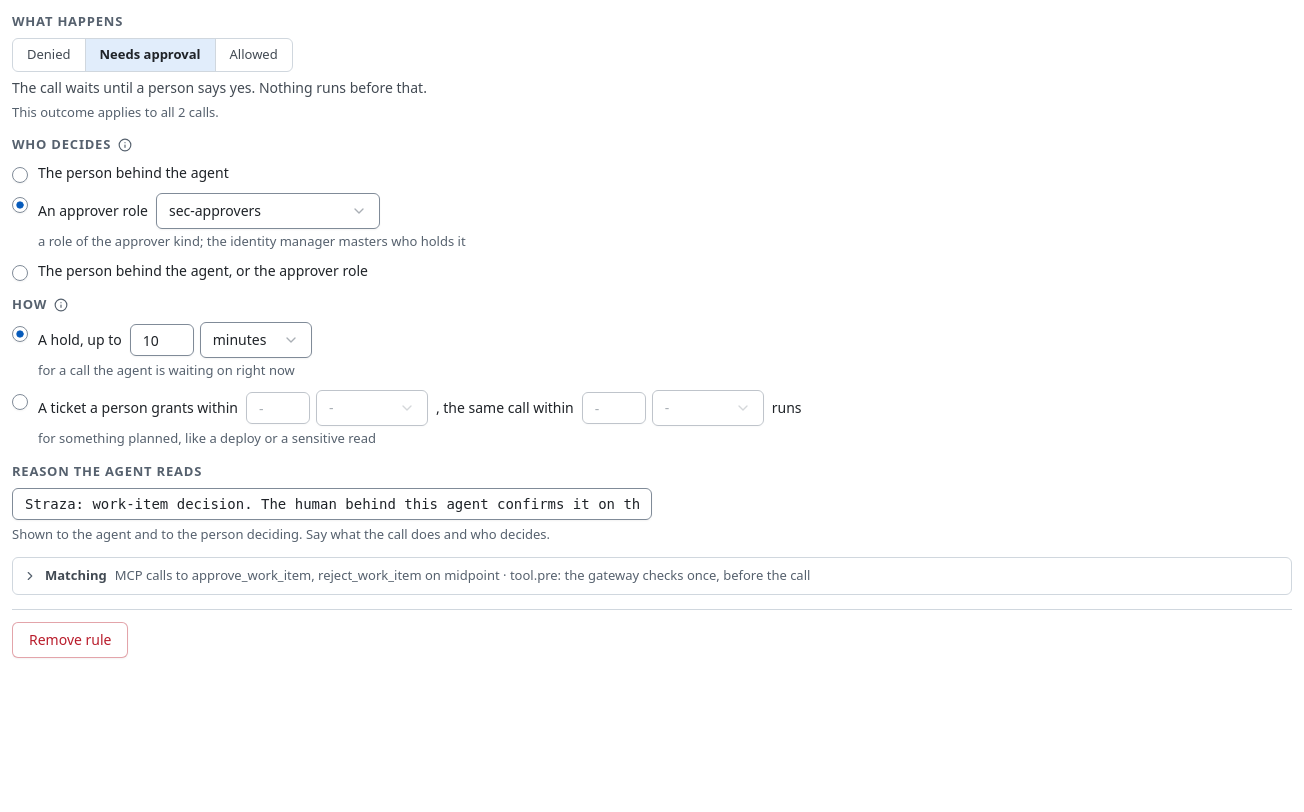
it: changing what a rule does › warns when a team is paged for a window too short to answer
The width and height of the screenshot is (1304, 812).
Click the dropdown labelled "minutes".
click(256, 340)  # box x1=200 y1=322 x2=312 y2=358
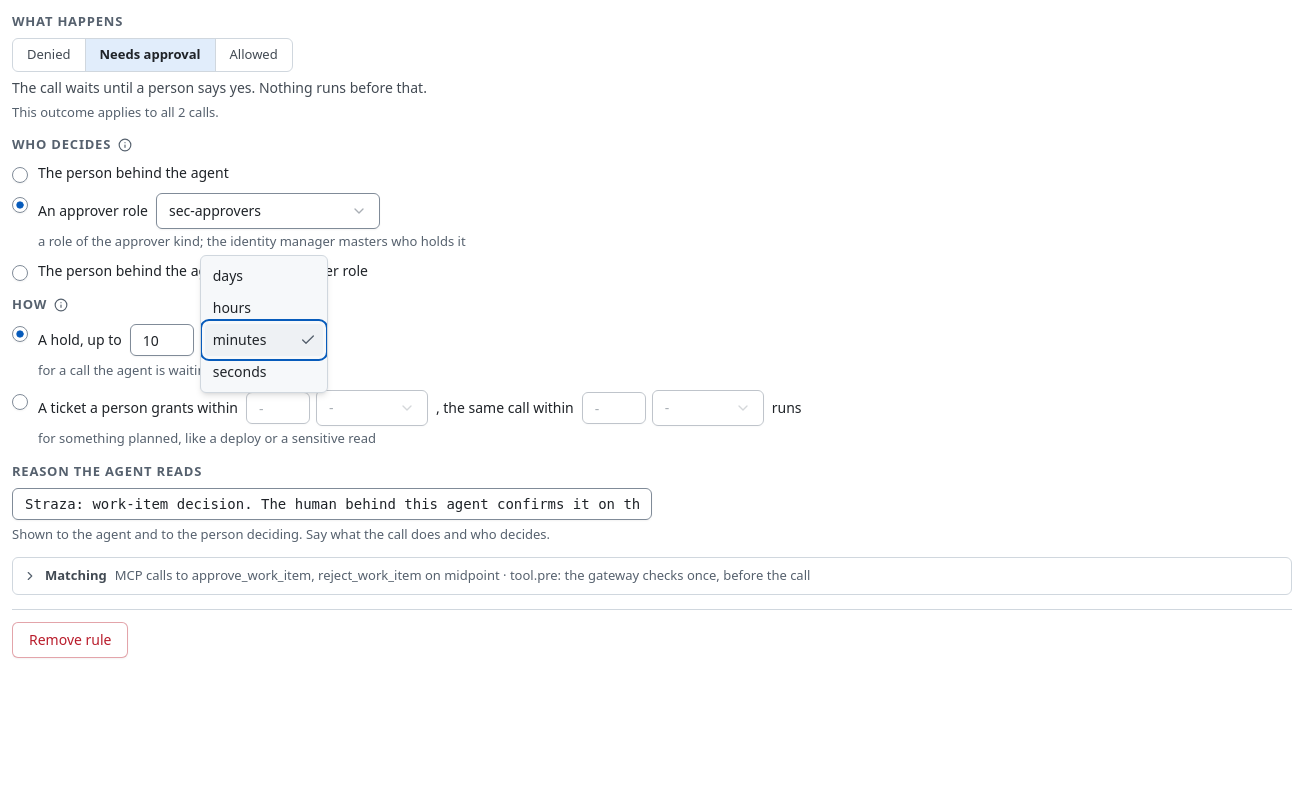
Click the option "seconds".
click(240, 372)  # box x1=213 y1=362 x2=267 y2=381
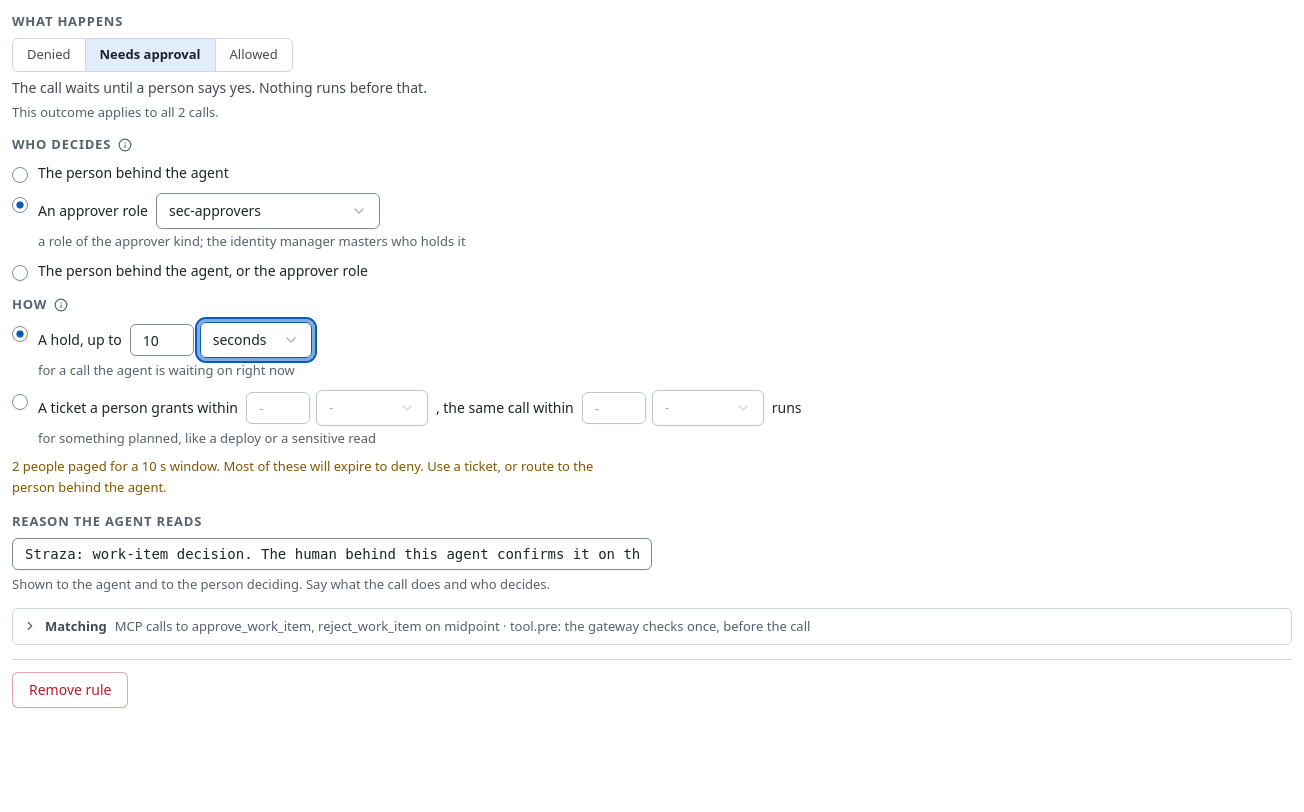
Replace the text in the number field named "A hold, up to" with "90" at (162, 340), box x1=130 y1=324 x2=194 y2=356
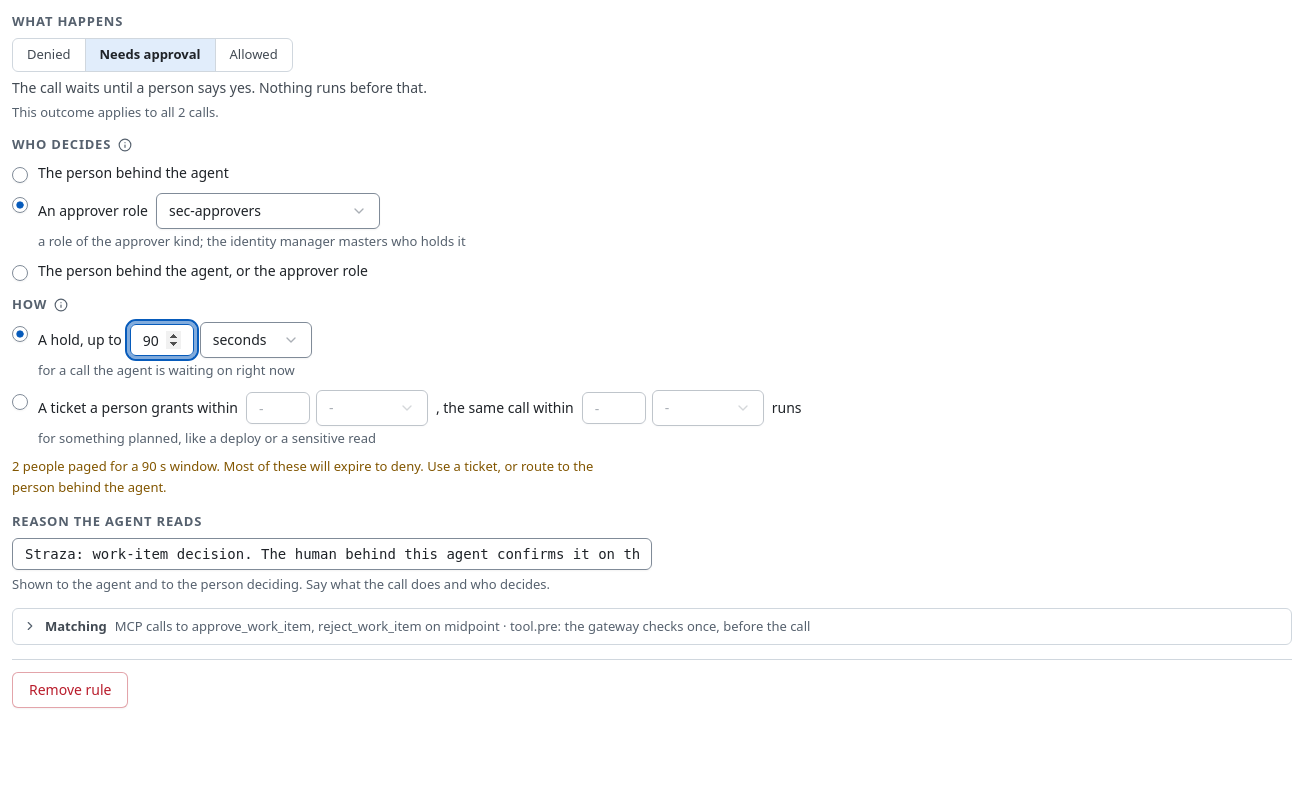
Expected: the text "2 people paged for a 90 s window" is shown, x1=12 y1=457 x2=593 y2=496
